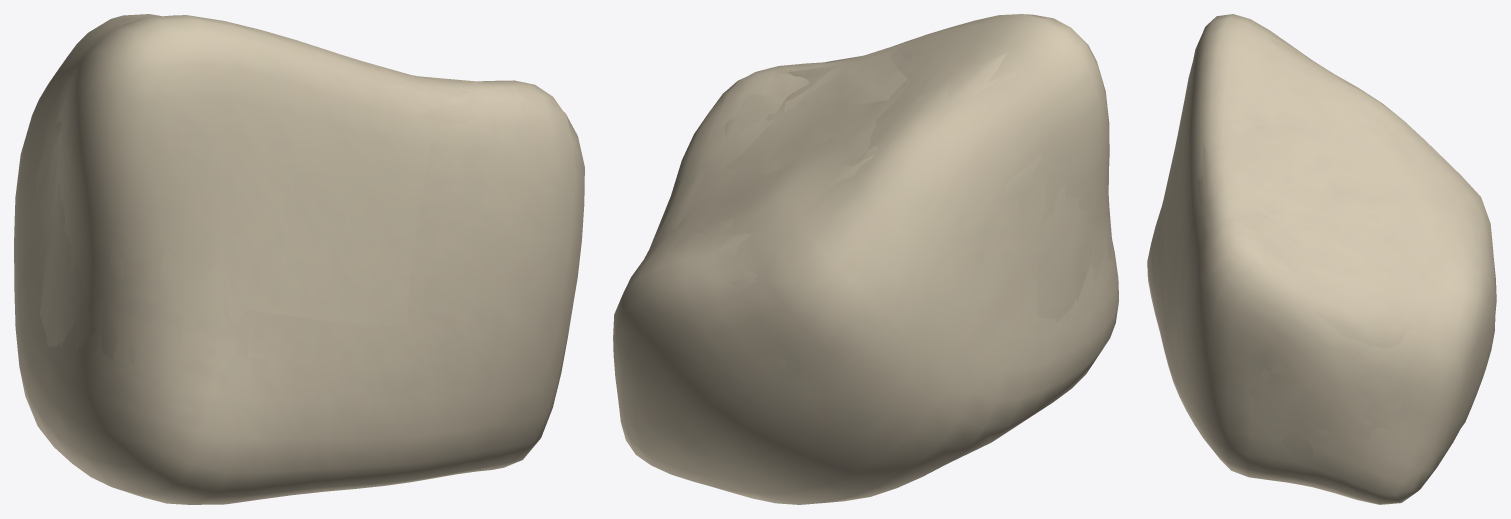
Rendered from R carpale secundum.fbx.
3 renders of one model, left to right at view 1: azimuth 30°, elevation 25°; view 2: azimuth 150°, elevation 25°; view 3: azimuth 270°, elevation 25°, orthographic. The views are drawn at different scales.
Parts seen in each view (by area): view 1: R carpale secundum high, R carpale secundum, R carpale secundum low; view 2: R carpale secundum high, R carpale secundum, R carpale secundum low; view 3: R carpale secundum high, R carpale secundum, R carpale secundum low.
Boxes of the visible parts, bbox=[...] form: R carpale secundum high: bbox=[14, 14, 584, 504]; R carpale secundum: bbox=[35, 17, 497, 389]; R carpale secundum low: bbox=[119, 17, 481, 366]; R carpale secundum high: bbox=[613, 14, 1118, 504]; R carpale secundum: bbox=[654, 42, 1112, 408]; R carpale secundum low: bbox=[644, 50, 1112, 288]; R carpale secundum high: bbox=[1147, 14, 1496, 504]; R carpale secundum: bbox=[1154, 40, 1478, 492]; R carpale secundum low: bbox=[1201, 38, 1482, 483].
Bounding box in the file's own units: 1.55 × 1.69 × 1.44.
